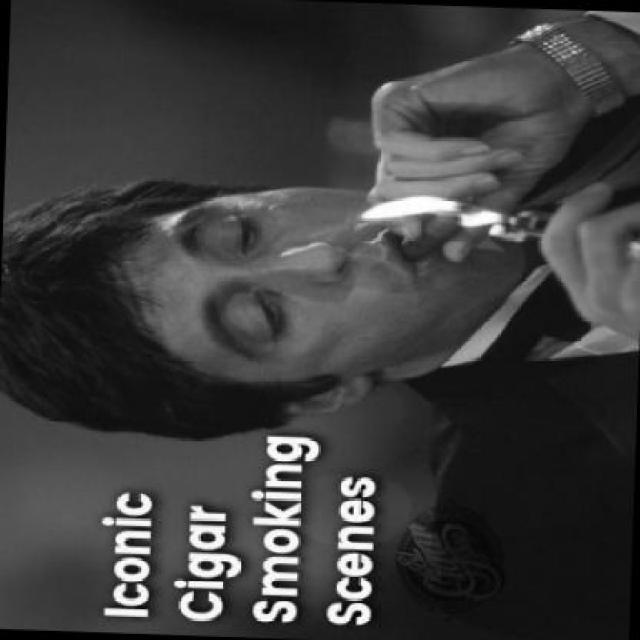smoke: (392, 188, 488, 264)
